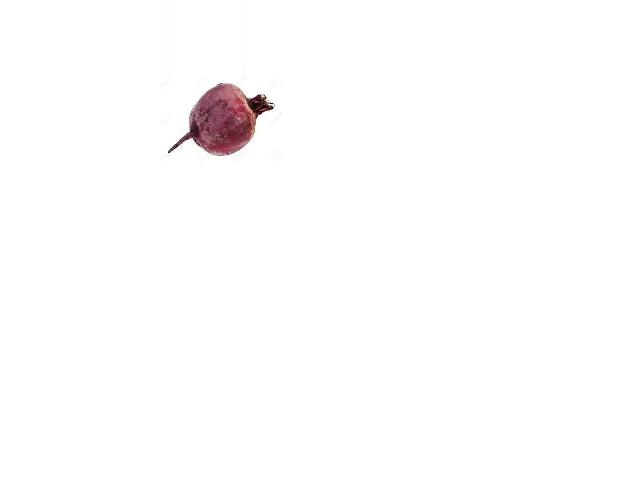beet: (169, 84, 274, 155)
